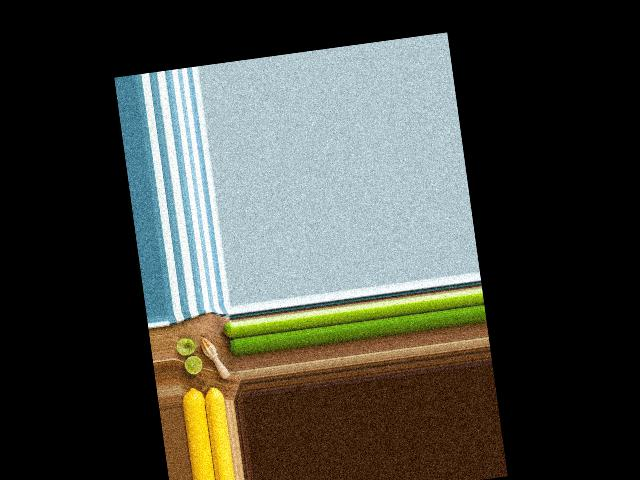lemon: (178, 383, 207, 407)
